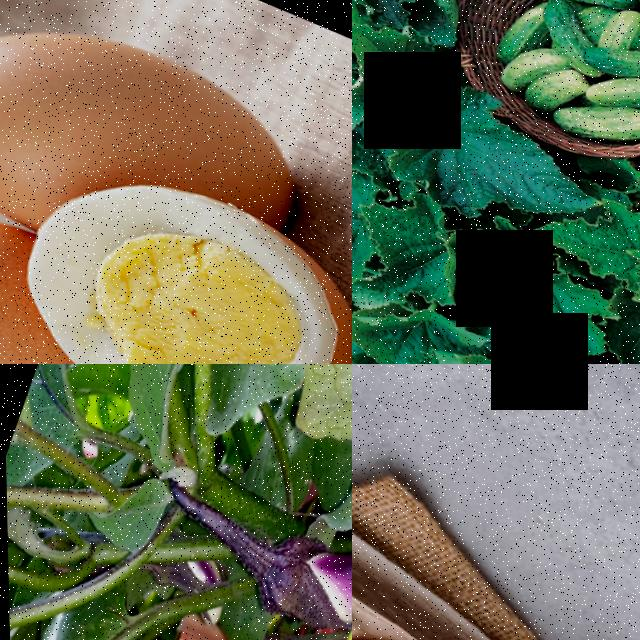cucumber: (550, 73, 640, 158), (593, 43, 640, 122), (530, 0, 594, 45), (496, 41, 541, 95), (605, 18, 640, 82), (535, 0, 640, 17)
egg_: (0, 137, 352, 364), (0, 0, 111, 232)
eggplant: (244, 364, 352, 640)
